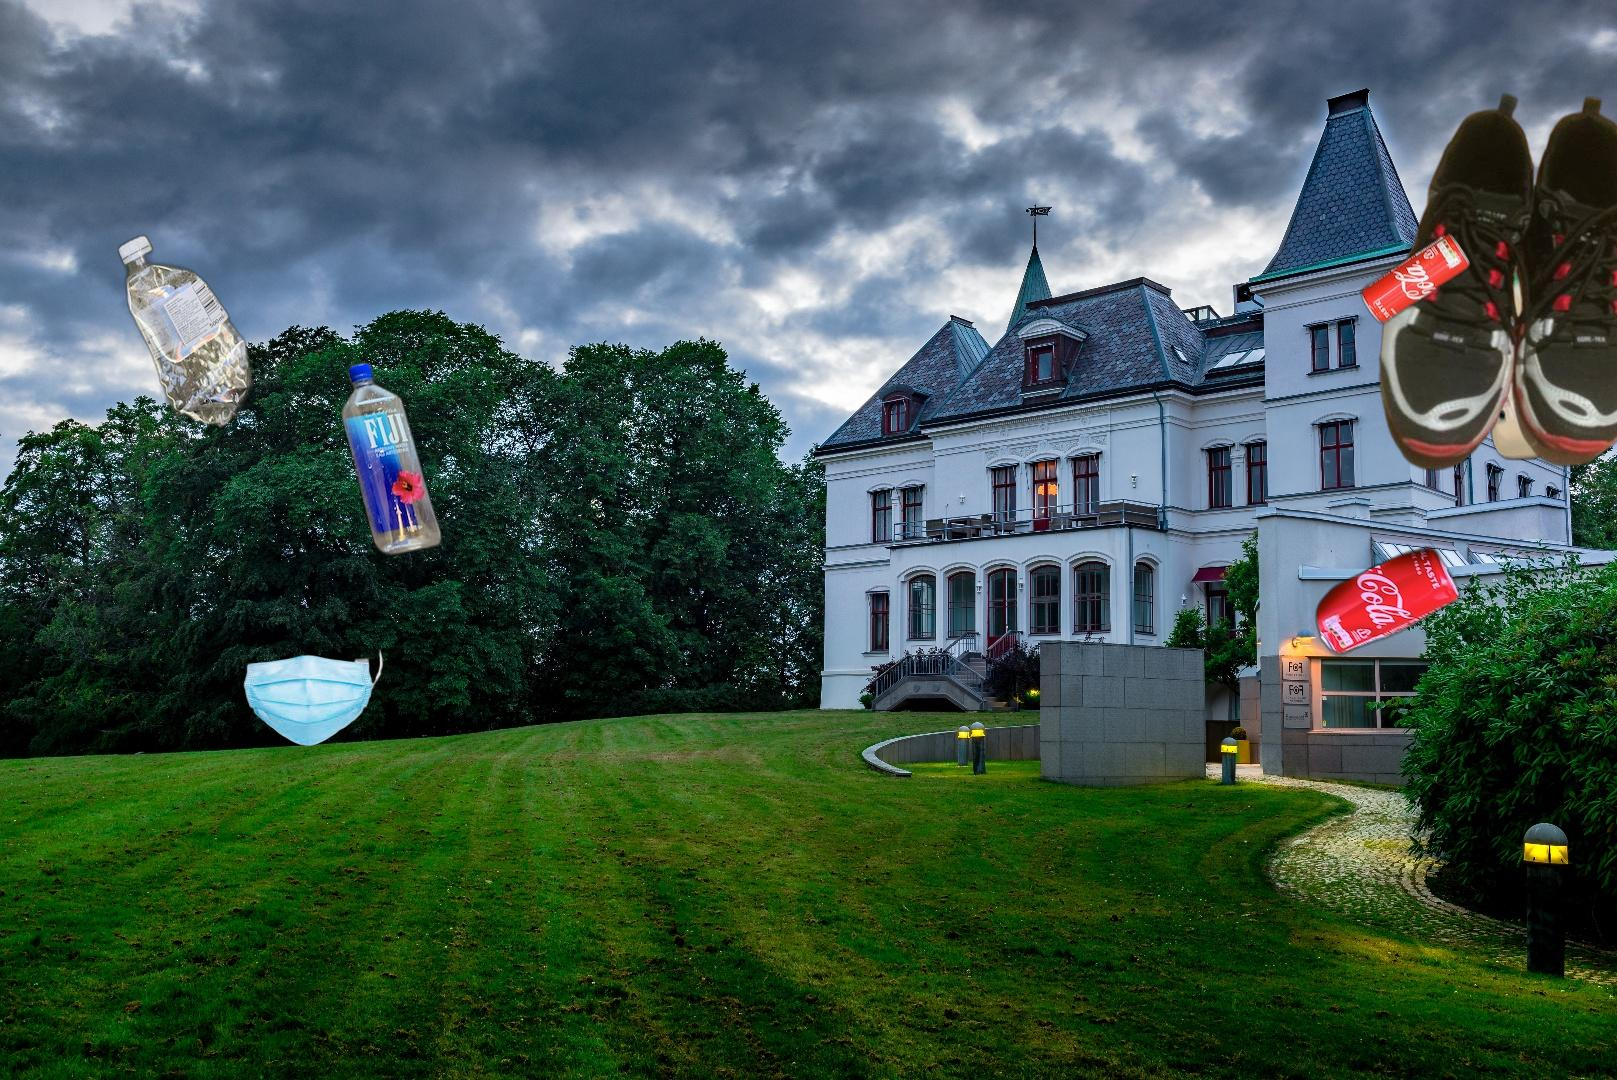metal-cans: (1311, 542, 1465, 661), (1356, 227, 1475, 331)
plastic-bottles: (113, 229, 258, 434), (1477, 259, 1617, 466), (335, 356, 446, 562)
shoes: (1377, 90, 1617, 475)
trash: (235, 641, 386, 749)
